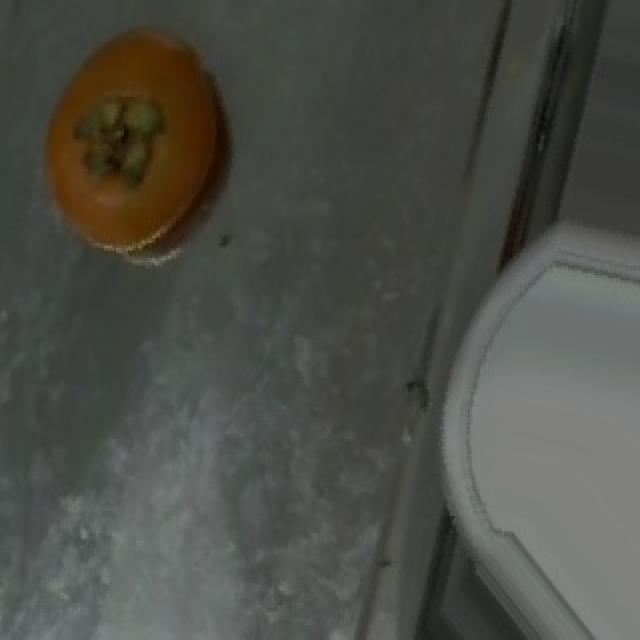Fruit: (10, 10, 250, 278)
